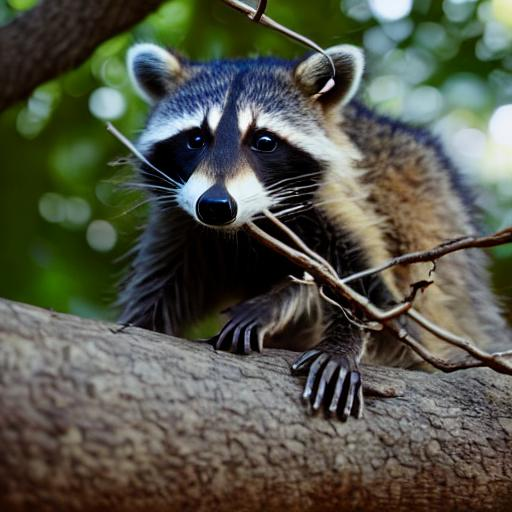raccoon: (102, 33, 512, 351)
